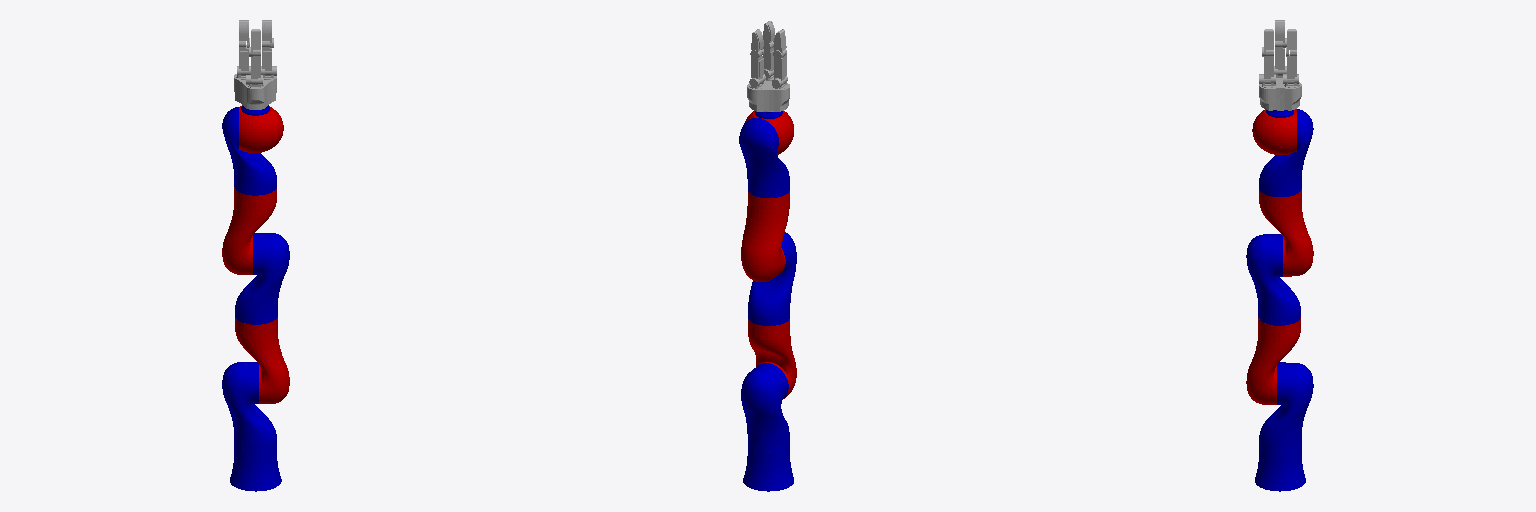
robot.urdf — lbr:
<?xml version="1.0" ?>
<!-- =================================================================================== -->
<!-- |    This document was autogenerated by xacro from lbr_sdh2.xacro                 | -->
<!-- |    EDITING THIS FILE BY HAND IS NOT RECOMMENDED                                 | -->
<!-- =================================================================================== -->
<robot name="lbr" xmlns:controller="http://playerstage.sourceforge.net/gazebo/xmlschema/#controller" xmlns:interface="http://playerstage.sourceforge.net/gazebo/xmlschema/#interface" xmlns:sensor="http://playerstage.sourceforge.net/gazebo/xmlschema/#sensor" xmlns:xacro="http://ros.org/wiki/xacro">
  
  
  <!-- ros_control plugin -->
  <gazebo>
    <plugin name="gazebo_ros_control" filename="libgazebo_ros_control.so">
      <robotNamespace>/lbr</robotNamespace>
      <robotSimType>gazebo_ros_control/DefaultRobotHWSim</robotSimType>
    </plugin>
  </gazebo>
  
  <material name="Blue">
    <color rgba="0.0 0.0 0.8 1.0"/>
  </material>
  <material name="Green">
    <color rgba="0.0 0.8 0.0 1.0"/>
  </material>
  <material name="Grey">
    <color rgba="0.7 0.7 0.7 1.0"/>
  </material>
  <material name="Grey2">
    <color rgba="0.9 0.9 0.9 1.0"/>
  </material>
  <material name="Red">
    <color rgba="0.8 0.0 0.0 1.0"/>
  </material>
  <material name="White">
    <color rgba="1.0 1.0 1.0 1.0"/>
  </material>
  <material name="Black">
    <color rgba="0.0 0.0 0.0 1.0"/>
  </material>
  <material name="Schunk/LightGrey">
    <color rgba="0.7 0.7 0.7 1.0"/>
  </material>
  <material name="Schunk/DarkGrey">
    <color rgba="0.4 0.4 0.4 1.0"/>
  </material>
  <material name="Schunk/Black">
    <color rgba="0.0 0.0 0.0 1.0"/>
  </material>
  <material name="Schunk/DarkGolden">
    <color rgba="0.4 0.4 0.3 1.0"/>
  </material>
  <material name="Schunk/Blue">
    <color rgba="0.0 0.0 0.8 1.0"/>
  </material>
  
  <link name="lbr_0_link">
    <inertial>
      <origin rpy="0 0 0" xyz="0 0 0"/>
      <mass value="1.0"/>
      <inertia ixx="0.01" ixy="0" ixz="0" iyy="0.01" iyz="0" izz="0.01"/>
    </inertial>
    <visual>
      <origin rpy="0 0 0" xyz="0 0 0"/>
      <geometry>
        <mesh filename="package://omnirob_description/meshes/lbr0.stl"/>
      </geometry>
      <material name="Blue"/>
    </visual>
    <collision>
      <origin rpy="0 0 0" xyz="0 0 0"/>
      <geometry>
        <mesh filename="package://omnirob_description/meshes/lbr0_low_res.stl"/>
      </geometry>
    </collision>
  </link>
  <joint name="lbr_1_joint" type="revolute">
    <!--<origin xyz="0 0 0.14" rpy="0 0 -2.8407"/> -->
    <origin rpy="0 0 0" xyz="0 0 0.1105"/>
    <parent link="lbr_0_link"/>
    <child link="lbr_1_link"/>
    <axis xyz="0 0 1"/>
    <dynamics damping="25"/>
    <limit effort="200" lower="-2.9670" upper="2.9670" velocity="1.9634"/>
  </joint>
  <link name="lbr_1_link">
    <inertial>
      <origin rpy="0 0 0" xyz="0 0 0"/>
      <mass value="5.9907"/>
      <inertia ixx="0.01" ixy="0" ixz="0" iyy="0.01" iyz="0" izz="0.01"/>
    </inertial>
    <visual>
      <origin rpy="0 0 0" xyz="0 0 0"/>
      <geometry>
        <mesh filename="package://omnirob_description/meshes/lbr1.stl"/>
      </geometry>
      <material name="Blue"/>
    </visual>
    <collision>
      <origin rpy="0 0 0" xyz="0 0 0"/>
      <geometry>
        <mesh filename="package://omnirob_description/meshes/lbr1_low_res.stl"/>
      </geometry>
    </collision>
  </link>
  <joint name="lbr_2_joint" type="revolute">
    <origin rpy="1.5708 0 0" xyz="0 0 0.1915"/>
    <parent link="lbr_1_link"/>
    <child link="lbr_2_link"/>
    <axis xyz="0 0 1"/>
    <dynamics damping="25"/>
    <limit effort="200" lower="-2.0943" upper="2.0943" velocity="1.9634"/>
  </joint>
  <link name="lbr_2_link">
    <inertial>
      <origin rpy="0 0 0" xyz="0 0 0.002"/>
      <mass value="5.734939"/>
      <inertia ixx="0.03" ixy="0" ixz="0" iyy="0.03" iyz="0" izz="0.03"/>
    </inertial>
    <visual>
      <origin rpy="0 0 0" xyz="0 0 0.002"/>
      <geometry>
        <mesh filename="package://omnirob_description/meshes/lbr2.stl"/>
      </geometry>
      <material name="Red"/>
    </visual>
    <collision>
      <origin rpy="0 0 0" xyz="0 0 0.002"/>
      <geometry>
        <mesh filename="package://omnirob_description/meshes/lbr2_low_res.stl"/>
      </geometry>
    </collision>
  </link>
  <joint name="lbr_3_joint" type="revolute">
    <origin rpy="-1.5708 0 0" xyz="0 0.2085 0"/>
    <parent link="lbr_2_link"/>
    <child link="lbr_3_link"/>
    <axis xyz="0 0 1"/>
    <dynamics damping="25"/>
    <limit effort="100" lower="-2.9670" upper="2.9670" velocity="1.9634"/>
  </joint>
  <link name="lbr_3_link">
    <inertial>
      <origin rpy="0 0 0" xyz="0 -0.002 0"/>
      <mass value="4.214668"/>
      <inertia ixx="0.03" ixy="0" ixz="0" iyy="0.03" iyz="0" izz="0.03"/>
    </inertial>
    <visual>
      <origin rpy="0 0 0" xyz="0 -0.002 0"/>
      <geometry>
        <mesh filename="package://omnirob_description/meshes/lbr3.stl"/>
      </geometry>
      <material name="Blue"/>
    </visual>
    <collision>
      <origin rpy="0 0 0" xyz="0 -0.002 0"/>
      <geometry>
        <mesh filename="package://omnirob_description/meshes/lbr3_low_res.stl"/>
      </geometry>
    </collision>
  </link>
  <joint name="lbr_4_joint" type="revolute">
    <origin rpy="-1.5708 0 0" xyz="0 0 0.1915"/>
    <parent link="lbr_3_link"/>
    <child link="lbr_4_link"/>
    <axis xyz="0 0 1"/>
    <dynamics damping="25"/>
    <limit effort="100" lower="-2.0943" upper="2.0943" velocity="1.9634"/>
  </joint>
  <link name="lbr_4_link">
    <inertial>
      <origin rpy="0 0 0" xyz="0 0 0"/>
      <mass value="3.669819"/>
      <inertia ixx="0.03" ixy="0" ixz="0" iyy="0.03" iyz="0" izz="0.03"/>
    </inertial>
    <visual>
      <origin rpy="0 0 0" xyz="0 0 0"/>
      <geometry>
        <mesh filename="package://omnirob_description/meshes/lbr4.stl"/>
      </geometry>
      <material name="Red"/>
    </visual>
    <collision>
      <origin rpy="0 0 0" xyz="0 0 0"/>
      <geometry>
        <mesh filename="package://omnirob_description/meshes/lbr4_low_res.stl"/>
      </geometry>
    </collision>
  </link>
  <joint name="lbr_5_joint" type="revolute">
    <origin rpy="1.5708 0 0" xyz="0 -0.2085 0"/>
    <parent link="lbr_4_link"/>
    <child link="lbr_5_link"/>
    <axis xyz="0 0 1"/>
    <dynamics damping="25"/>
    <limit effort="100" lower="-2.9670" upper="2.9670" velocity="3.1415926"/>
  </joint>
  <link name="lbr_5_link">
    <inertial>
      <origin rpy="0 0 0" xyz="0 0 0"/>
      <mass value="2.313272"/>
      <inertia ixx="0.03" ixy="0" ixz="0" iyy="0.03" iyz="0" izz="0.03"/>
    </inertial>
    <visual>
      <origin rpy="0 0 0" xyz="0 0 0"/>
      <geometry>
        <mesh filename="package://omnirob_description/meshes/lbr5.stl"/>
      </geometry>
      <material name="Blue"/>
    </visual>
    <collision>
      <origin rpy="0 0 0" xyz="0 0 0"/>
      <geometry>
        <mesh filename="package://omnirob_description/meshes/lbr5_low_res.stl"/>
      </geometry>
    </collision>
  </link>
  <joint name="lbr_6_joint" type="revolute">
    <origin rpy="1.5708 0 0" xyz="0 0 0.1815"/>
    <parent link="lbr_5_link"/>
    <child link="lbr_6_link"/>
    <axis xyz="0 0 1"/>
    <dynamics damping="25"/>
    <limit effort="30" lower="-2.0943951" upper="2.0943951" velocity="1.9634"/>
  </joint>
  <link name="lbr_6_link">
    <inertial>
      <origin rpy="0 0 0" xyz="0 0 0"/>
      <mass value="2.057856"/>
      <inertia ixx="0.01" ixy="0" ixz="0" iyy="0.01" iyz="0" izz="0.01"/>
    </inertial>
    <visual>
      <origin rpy="0 0 0" xyz="0 0 -0.046"/>
      <geometry>
        <mesh filename="package://omnirob_description/meshes/lbr6.stl"/>
      </geometry>
      <material name="Red"/>
    </visual>
    <collision>
      <origin rpy="0 0 0" xyz="0 0 -0.046"/>
      <geometry>
        <mesh filename="package://omnirob_description/meshes/lbr6_low_res.stl"/>
      </geometry>
    </collision>
  </link>
  <joint name="lbr_7_joint" type="revolute">
    <origin rpy="-1.5708 0 0" xyz="0 0.057 0"/>
    <parent link="lbr_6_link"/>
    <child link="lbr_7_link"/>
    <axis xyz="0 0 1"/>
    <dynamics damping="25"/>
    <limit effort="30" lower="-2.9670" upper="2.9670" velocity="1.9634"/>
  </joint>
  <link name="lbr_7_link">
    <inertial>
      <origin rpy="0 0 0" xyz="0 0 0"/>
      <mass value="1.120198"/>
      <inertia ixx="0.01" ixy="0" ixz="0" iyy="0.01" iyz="0" izz="0.01"/>
    </inertial>
    <visual>
      <origin rpy="0 0 0" xyz="0 0 0"/>
      <geometry>
        <mesh filename="package://omnirob_description/meshes/lbr7.stl"/>
      </geometry>
      <material name="Blue"/>
    </visual>
    <collision>
      <origin rpy="0 0 0" xyz="0 0 0"/>
      <geometry>
        <mesh filename="package://omnirob_description/meshes/lbr7_low_res.stl"/>
      </geometry>
    </collision>
  </link>
  <joint name="flange" type="fixed">
    <parent link="lbr_7_link"/>
    <child link="lbr_flange_link"/>
    <origin rpy="0 0 0" xyz="0 0 0.0195"/>
  </joint>
  <link name="lbr_flange_link">
		</link>
  <link name="sdh2_palm_link">
    <inertial>
      <origin rpy="0 0 0" xyz="0 0 0"/>
      <mass value="1"/>
      <inertia ixx="0.01" ixy="0" ixz="0" iyy="0.01" iyz="0" izz="0.01"/>
    </inertial>
    <visual>
      <origin rpy="0 0 0" xyz="0 0 0"/>
      <geometry>
        <mesh filename="package://sdh2_description/meshes/palm.stl"/>
      </geometry>
      <material name="Schunk/LightGrey"/>
    </visual>
    <collision>
      <origin rpy="0 0 0" xyz="0 0 0"/>
      <geometry>
        <mesh filename="package://sdh2_description/meshes/palm_low_res.stl"/>
      </geometry>
    </collision>
  </link>
  <joint name="sdh2_grasp_joint" type="fixed">
    <origin rpy="0 0 0" xyz="0 0 0.15"/>
    <parent link="sdh2_palm_link"/>
    <child link="sdh2_grasp_link"/>
  </joint>
  <link name="sdh2_grasp_link"/>
  <joint name="sdh2_tip_joint" type="fixed">
    <origin rpy="0 0 0" xyz="0 0 0.22"/>
    <parent link="sdh2_palm_link"/>
    <child link="sdh2_tip_link"/>
  </joint>
  <link name="sdh2_tip_link"/>
  <joint name="sdh2_knuckle_joint" type="revolute">
    <origin rpy="0 0 3.14159265" xyz="0.01905 0.033 0.0745"/>
    <parent link="sdh2_palm_link"/>
    <child link="sdh2_finger_11_link"/>
    <axis xyz="0 0 1"/>
    <dynamics damping="1"/>
    <limit effort="100" lower="0" upper="1.570796327" velocity="5"/>
  </joint>
  <link name="sdh2_finger_11_link">
    <inertial>
      <origin rpy="0 0 0" xyz="0 0 0"/>
      <mass value="0.1"/>
      <inertia ixx="0.01" ixy="0" ixz="0" iyy="0.01" iyz="0" izz="0.01"/>
    </inertial>
    <visual>
      <origin rpy="0 0 0" xyz="0 0 0"/>
      <geometry>
        <mesh filename="package://sdh2_description/meshes/knuckle.stl"/>
      </geometry>
      <material name="Schunk/LightGrey"/>
    </visual>
    <collision>
      <origin rpy="0 0 0" xyz="0 0 0"/>
      <geometry>
        <mesh filename="package://sdh2_description/meshes/knuckle_low_res.stl"/>
      </geometry>
    </collision>
  </link>
  <joint name="sdh2_finger_12_joint" type="revolute">
    <origin rpy="0 0 0" xyz="0 0 0.0165"/>
    <parent link="sdh2_finger_11_link"/>
    <child link="sdh2_finger_12_link"/>
    <axis xyz="0 1 0"/>
    <dynamics damping="1"/>
    <limit effort="100" lower="-1.570796327" upper="1.570796327" velocity="5"/>
  </joint>
  <link name="sdh2_finger_12_link">
    <inertial>
      <origin rpy="0 0 0" xyz="0 0 0"/>
      <mass value="0.1"/>
      <inertia ixx="0.01" ixy="0" ixz="0" iyy="0.01" iyz="0" izz="0.01"/>
    </inertial>
    <visual>
      <origin rpy="0 0 0" xyz="0 0 0"/>
      <geometry>
        <mesh filename="package://sdh2_description/meshes/finger.stl"/>
      </geometry>
      <material name="Schunk/LightGrey"/>
    </visual>
    <collision>
      <origin rpy="0 0 0" xyz="0 0 0"/>
      <geometry>
        <mesh filename="package://sdh2_description/meshes/finger_low_res.stl"/>
      </geometry>
    </collision>
  </link>
  <joint name="sdh2_finger_13_joint" type="revolute">
    <origin rpy="0 0 0" xyz="0 0 0.0865"/>
    <parent link="sdh2_finger_12_link"/>
    <child link="sdh2_finger_13_link"/>
    <axis xyz="0 1 0"/>
    <dynamics damping="1"/>
    <limit effort="100" lower="-1.570796327" upper="1.570796327" velocity="5"/>
  </joint>
  <link name="sdh2_finger_13_link">
    <inertial>
      <origin rpy="0 0 0" xyz="0 0 0"/>
      <mass value="0.1"/>
      <inertia ixx="0.01" ixy="0" ixz="0" iyy="0.01" iyz="0" izz="0.01"/>
    </inertial>
    <visual>
      <origin rpy="0 0 0" xyz="0 0 0"/>
      <geometry>
        <mesh filename="package://sdh2_description/meshes/finger_tip.stl"/>
      </geometry>
      <material name="Schunk/LightGrey"/>
    </visual>
    <collision>
      <origin rpy="0 0 0" xyz="0 0 0"/>
      <geometry>
        <mesh filename="package://sdh2_description/meshes/finger_tip_low_res.stl"/>
      </geometry>
    </collision>
  </link>
  <joint name="sdh2_finger_21_joint" type="revolute">
    <mimic joint="sdh2_knuckle_joint" multiplier="1" offset="0"/>
    <origin rpy="0 0 3.14159265" xyz="0.01905 -0.033 0.0745"/>
    <parent link="sdh2_palm_link"/>
    <child link="sdh2_finger_21_link"/>
    <axis xyz="0 0 -1"/>
    <dynamics damping="1"/>
    <limit effort="100" lower="0" upper="1.570796327" velocity="5"/>
  </joint>
  <link name="sdh2_finger_21_link">
    <inertial>
      <origin rpy="0 0 0" xyz="0 0 0"/>
      <mass value="0.1"/>
      <inertia ixx="0.01" ixy="0" ixz="0" iyy="0.01" iyz="0" izz="0.01"/>
    </inertial>
    <visual>
      <origin rpy="0 0 0" xyz="0 0 0"/>
      <geometry>
        <mesh filename="package://sdh2_description/meshes/knuckle.stl"/>
      </geometry>
      <material name="Schunk/LightGrey"/>
    </visual>
    <collision>
      <origin rpy="0 0 0" xyz="0 0 0"/>
      <geometry>
        <mesh filename="package://sdh2_description/meshes/knuckle_low_res.stl"/>
      </geometry>
    </collision>
  </link>
  <joint name="sdh2_finger_22_joint" type="revolute">
    <origin rpy="0 0 0" xyz="0 0 0.0165"/>
    <parent link="sdh2_finger_21_link"/>
    <child link="sdh2_finger_22_link"/>
    <axis xyz="0 1 0"/>
    <dynamics damping="1"/>
    <limit effort="100" lower="-1.570796327" upper="1.570796327" velocity="5"/>
  </joint>
  <link name="sdh2_finger_22_link">
    <inertial>
      <origin rpy="0 0 0" xyz="0 0 0"/>
      <mass value="0.1"/>
      <inertia ixx="0.01" ixy="0" ixz="0" iyy="0.01" iyz="0" izz="0.01"/>
    </inertial>
    <visual>
      <origin rpy="0 0 0" xyz="0 0 0"/>
      <geometry>
        <mesh filename="package://sdh2_description/meshes/finger.stl"/>
      </geometry>
      <material name="Schunk/LightGrey"/>
    </visual>
    <collision>
      <origin rpy="0 0 0" xyz="0 0 0"/>
      <geometry>
        <mesh filename="package://sdh2_description/meshes/finger_low_res.stl"/>
      </geometry>
    </collision>
  </link>
  <joint name="sdh2_finger_23_joint" type="revolute">
    <origin rpy="0 0 0" xyz="0 0 0.0865"/>
    <parent link="sdh2_finger_22_link"/>
    <child link="sdh2_finger_23_link"/>
    <axis xyz="0 1 0"/>
    <dynamics damping="1"/>
    <limit effort="100" lower="-1.570796327" upper="1.570796327" velocity="5"/>
  </joint>
  <link name="sdh2_finger_23_link">
    <inertial>
      <origin rpy="0 0 0" xyz="0 0 0"/>
      <mass value="0.1"/>
      <inertia ixx="0.01" ixy="0" ixz="0" iyy="0.01" iyz="0" izz="0.01"/>
    </inertial>
    <visual>
      <origin rpy="0 0 0" xyz="0 0 0"/>
      <geometry>
        <mesh filename="package://sdh2_description/meshes/finger_tip.stl"/>
      </geometry>
      <material name="Schunk/LightGrey"/>
    </visual>
    <collision>
      <origin rpy="0 0 0" xyz="0 0 0"/>
      <geometry>
        <mesh filename="package://sdh2_description/meshes/finger_tip_low_res.stl"/>
      </geometry>
    </collision>
  </link>
  <joint name="sdh2_thumb_1_joint" type="fixed">
    <origin rpy="0 0 0" xyz="-0.03811 0 0.0745 "/>
    <parent link="sdh2_palm_link"/>
    <child link="sdh2_thumb_1_link"/>
  </joint>
  <link name="sdh2_thumb_1_link">
    <inertial>
      <origin rpy="0 0 0" xyz="0 0 0"/>
      <mass value="0.1"/>
      <inertia ixx="0.01" ixy="0" ixz="0" iyy="0.01" iyz="0" izz="0.01"/>
    </inertial>
    <visual>
      <origin rpy="0 0 0" xyz="0 0 0"/>
      <geometry>
        <mesh filename="package://sdh2_description/meshes/knuckle.stl"/>
      </geometry>
      <material name="Schunk/LightGrey"/>
    </visual>
    <collision>
      <origin rpy="0 0 0" xyz="0 0 0"/>
      <geometry>
        <mesh filename="package://sdh2_description/meshes/knuckle_low_res.stl"/>
      </geometry>
    </collision>
  </link>
  <joint name="sdh2_thumb_2_joint" type="revolute">
    <origin rpy="0 0 0" xyz="0 0 0.0165"/>
    <parent link="sdh2_thumb_1_link"/>
    <child link="sdh2_thumb_2_link"/>
    <axis xyz="0 1 0"/>
    <dynamics damping="1"/>
    <limit effort="100" lower="-1.570796327" upper="1.570796327" velocity="5"/>
  </joint>
  <link name="sdh2_thumb_2_link">
    <inertial>
      <origin rpy="0 0 0" xyz="0 0 0"/>
      <mass value="0.1"/>
      <inertia ixx="0.01" ixy="0" ixz="0" iyy="0.01" iyz="0" izz="0.01"/>
    </inertial>
    <visual>
      <origin rpy="0 0 0" xyz="0 0 0"/>
      <geometry>
        <mesh filename="package://sdh2_description/meshes/finger.stl"/>
      </geometry>
      <material name="Schunk/LightGrey"/>
    </visual>
    <collision>
      <origin rpy="0 0 0" xyz="0 0 0"/>
      <geometry>
        <mesh filename="package://sdh2_description/meshes/finger_low_res.stl"/>
      </geometry>
    </collision>
  </link>
  <joint name="sdh2_thumb_3_joint" type="revolute">
    <origin rpy="0 0 0" xyz="0 0 0.0865"/>
    <parent link="sdh2_thumb_2_link"/>
    <child link="sdh2_thumb_3_link"/>
    <axis xyz="0 1 0"/>
    <dynamics damping="1"/>
    <limit effort="100" lower="-1.570796327" upper="1.570796327" velocity="5"/>
  </joint>
  <link name="sdh2_thumb_3_link">
    <inertial>
      <origin rpy="0 0 0" xyz="0 0 0"/>
      <mass value="0.1"/>
      <inertia ixx="0.01" ixy="0" ixz="0" iyy="0.01" iyz="0" izz="0.01"/>
    </inertial>
    <visual>
      <origin rpy="0 0 0" xyz="0 0 0"/>
      <geometry>
        <mesh filename="package://sdh2_description/meshes/finger_tip.stl"/>
      </geometry>
      <material name="Schunk/LightGrey"/>
    </visual>
    <collision>
      <origin rpy="0 0 0" xyz="0 0 0"/>
      <geometry>
        <mesh filename="package://sdh2_description/meshes/finger_tip_low_res.stl"/>
      </geometry>
    </collision>
  </link>
  <gazebo reference="sdh2_palm_link">
    <material>Schunk/LightGrey</material>
    <turnGravityOff>false</turnGravityOff>
  </gazebo>
  <gazebo reference="sdh2_finger_11_link">
    <material>Schunk/LightGrey</material>
    <turnGravityOff>false</turnGravityOff>
  </gazebo>
  <gazebo reference="sdh2_finger_12_link">
    <selfCollide>true</selfCollide>
    <material>Schunk/LightGrey</material>
    <turnGravityOff>false</turnGravityOff>
  </gazebo>
  <gazebo reference="sdh2_finger_13_link">
    <selfCollide>true</selfCollide>
    <material>Schunk/LightGrey</material>
  </gazebo>
  <gazebo reference="sdh2_finger_21_link">
    <material>Schunk/LightGrey</material>
    <turnGravityOff>false</turnGravityOff>
  </gazebo>
  <gazebo reference="sdh2_finger_22_link">
    <selfCollide>true</selfCollide>
    <material>Schunk/LightGrey</material>
    <turnGravityOff>false</turnGravityOff>
  </gazebo>
  <gazebo reference="sdh2_finger_23_link">
    <selfCollide>true</selfCollide>
    <material>Schunk/LightGrey</material>
  </gazebo>
  <gazebo reference="sdh2_thumb_1_link">
    <material>Schunk/LightGrey</material>
    <turnGravityOff>false</turnGravityOff>
  </gazebo>
  <gazebo reference="sdh2_thumb_2_link">
    <selfCollide>true</selfCollide>
    <material>Schunk/LightGrey</material>
    <turnGravityOff>false</turnGravityOff>
  </gazebo>
  <gazebo reference="sdh2_thumb_3_link">
    <selfCollide>true</selfCollide>
    <material>Schunk/LightGrey</material>
  </gazebo>
  <transmission name="sdh2_knuckle_trans" type="pr2_mechanism_model/SimpleTransmission">
    <actuator name="sdh2_knuckle_motor"/>
    <joint name="sdh2_finger_21_joint"/>
    <mechanicalReduction>1</mechanicalReduction>
  </transmission>
  <transmission name="sdh2_knuckle_trans" type="pr2_mechanism_model/SimpleTransmission">
    <actuator name="sdh2_knuckle_motor"/>
    <joint name="sdh2_knuckle_joint"/>
    <mechanicalReduction>1</mechanicalReduction>
  </transmission>
  <transmission name="sdh2_finger_12_trans" type="pr2_mechanism_model/SimpleTransmission">
    <actuator name="sdh2_finger_12_motor"/>
    <joint name="sdh2_finger_12_joint"/>
    <mechanicalReduction>1</mechanicalReduction>
  </transmission>
  <transmission name="sdh2_finger_13_trans" type="pr2_mechanism_model/SimpleTransmission">
    <actuator name="sdh2_finger_13_motor"/>
    <joint name="sdh2_finger_13_joint"/>
    <mechanicalReduction>1</mechanicalReduction>
  </transmission>
  <transmission name="sdh2_finger_22_trans" type="pr2_mechanism_model/SimpleTransmission">
    <actuator name="sdh2_finger_22_motor"/>
    <joint name="sdh2_finger_22_joint"/>
    <mechanicalReduction>1</mechanicalReduction>
  </transmission>
  <transmission name="sdh2_finger_23_trans" type="pr2_mechanism_model/SimpleTransmission">
    <actuator name="sdh2_finger_23_motor"/>
    <joint name="sdh2_finger_23_joint"/>
    <mechanicalReduction>1</mechanicalReduction>
  </transmission>
  <transmission name="sdh2_thumb_2_trans" type="pr2_mechanism_model/SimpleTransmission">
    <actuator name="sdh2_thumb_2_motor"/>
    <joint name="sdh2_thumb_2_joint"/>
    <mechanicalReduction>1</mechanicalReduction>
  </transmission>
  <transmission name="sdh2_thumb_3_trans" type="pr2_mechanism_model/SimpleTransmission">
    <actuator name="sdh2_thumb_3_motor"/>
    <joint name="sdh2_thumb_3_joint"/>
    <mechanicalReduction>1</mechanicalReduction>
  </transmission>
  <joint name="sdh2_palm_joint" type="fixed">
    <origin rpy="0 0 0" xyz="0 0 0"/>
    <parent link="lbr_flange_link"/>
    <child link="sdh2_palm_link"/>
  </joint>
</robot>

--- Render facts (derived) ---
3 views of the same robot in one strip: view 1: azimuth 90°, elevation 25°; view 2: azimuth 150°, elevation 25°; view 3: azimuth 270°, elevation 25° (orthographic).
Robot: lbr — 21 links, 20 joints (15 revolute, 5 fixed); root link lbr_0_link; default pose: all joints at 0.
Visible links, largest first — view 1: lbr_3_link, lbr_1_link, lbr_4_link, lbr_2_link, lbr_5_link, lbr_0_link, lbr_6_link, sdh2_palm_link; view 2: lbr_1_link, lbr_4_link, lbr_5_link, lbr_3_link, lbr_2_link, lbr_0_link, sdh2_palm_link, lbr_6_link; view 3: lbr_3_link, lbr_1_link, lbr_2_link, lbr_4_link, lbr_5_link, lbr_0_link, lbr_6_link, sdh2_palm_link.
Boxes of the visible links, x1,y1,x2,y2 form: lbr_3_link: [235, 233, 289, 324]; lbr_1_link: [222, 362, 276, 453]; lbr_4_link: [222, 187, 276, 274]; lbr_2_link: [235, 317, 289, 403]; lbr_5_link: [222, 107, 276, 195]; lbr_0_link: [230, 443, 281, 491]; lbr_6_link: [239, 105, 283, 152]; sdh2_palm_link: [234, 74, 276, 109]; lbr_1_link: [741, 363, 789, 453]; lbr_4_link: [741, 191, 789, 281]; lbr_5_link: [739, 118, 789, 197]; lbr_3_link: [748, 232, 796, 325]; lbr_2_link: [748, 319, 796, 398]; lbr_0_link: [743, 444, 793, 491]; sdh2_palm_link: [747, 80, 789, 111]; lbr_6_link: [744, 111, 793, 154]; lbr_3_link: [1246, 234, 1300, 325]; lbr_1_link: [1259, 362, 1313, 452]; lbr_2_link: [1246, 317, 1300, 404]; lbr_4_link: [1259, 189, 1313, 276]; lbr_5_link: [1259, 109, 1313, 196]; lbr_0_link: [1255, 443, 1305, 491]; lbr_6_link: [1252, 109, 1296, 154]; sdh2_palm_link: [1259, 79, 1301, 110].
Size in the robot's own frame: 0.146 by 0.1896 by 1.41 metres.
Meshes: 12 distinct files referenced, 18 mesh visuals loaded (12 binary STL).
